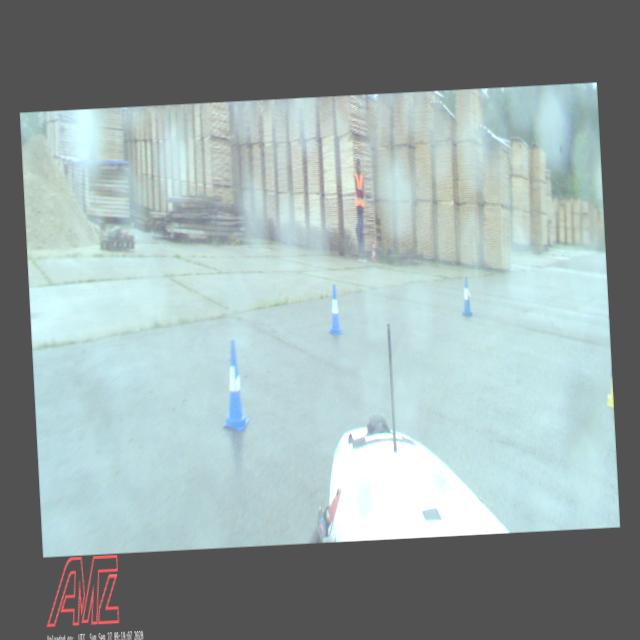blue_cone: (220, 338, 250, 431), (326, 283, 344, 335), (460, 276, 472, 317)
yellow_cone: (606, 366, 614, 408)
